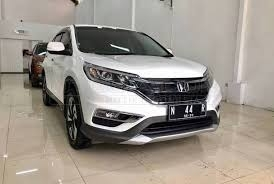plate: (169, 104, 207, 118)
